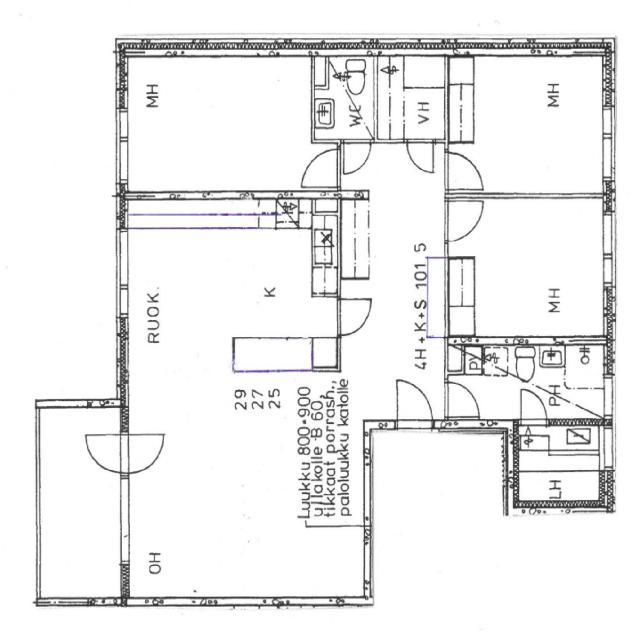door: (119, 434, 164, 474), (397, 379, 432, 430), (85, 434, 129, 474), (444, 201, 484, 241), (444, 151, 481, 189), (303, 149, 340, 187), (336, 299, 372, 335), (444, 383, 479, 417), (344, 137, 371, 175), (407, 137, 433, 174), (522, 390, 548, 426)
